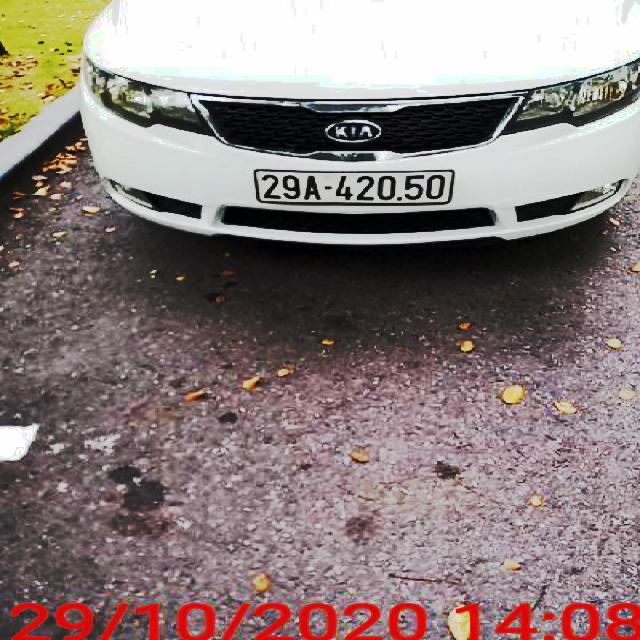license_plate: (251, 168, 455, 203)
